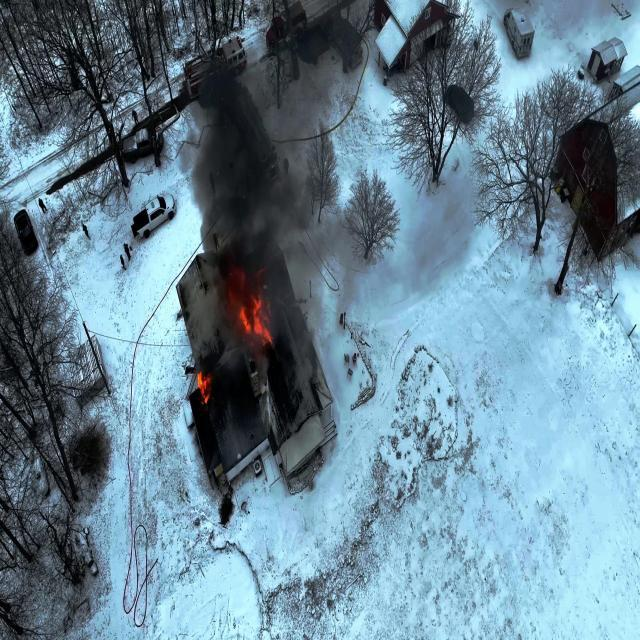Fire: (224, 272, 272, 346), (197, 362, 214, 398)
Smoke: (186, 94, 284, 272)
